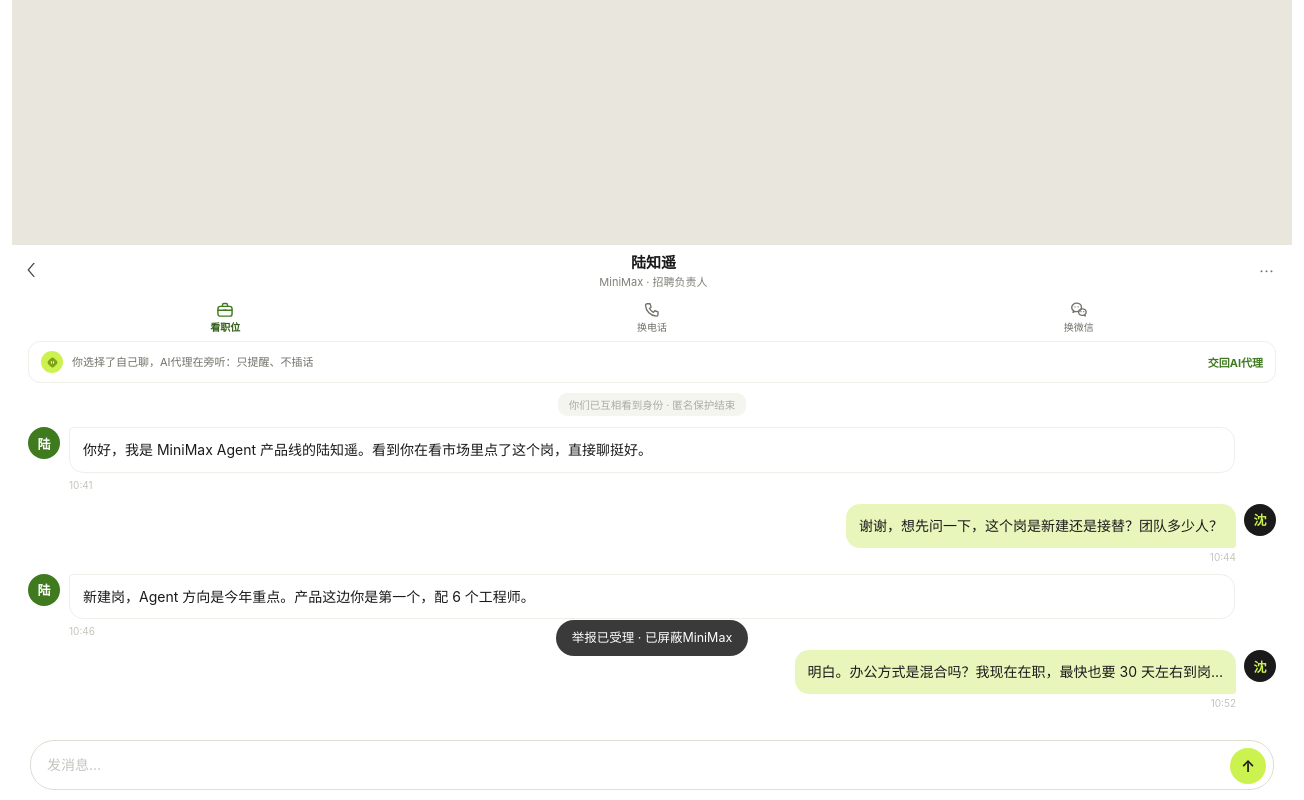
it: 直聊会话 · Mock 原型行为原样 › 原型消息流与本地发送行为保持
(page scrolled)
expect the text "陆知遥" is shown: met, box [631,253,676,272]
expect the text "你好，我是 MiniMax Agent 产品线的陆知遥。看到你在看市场里点了这个岗，直接聊挺好。" is shown: met, box [83,441,652,458]
Type "今天下午方便电话" into the text box at (634, 765), box [47,746,1220,784]
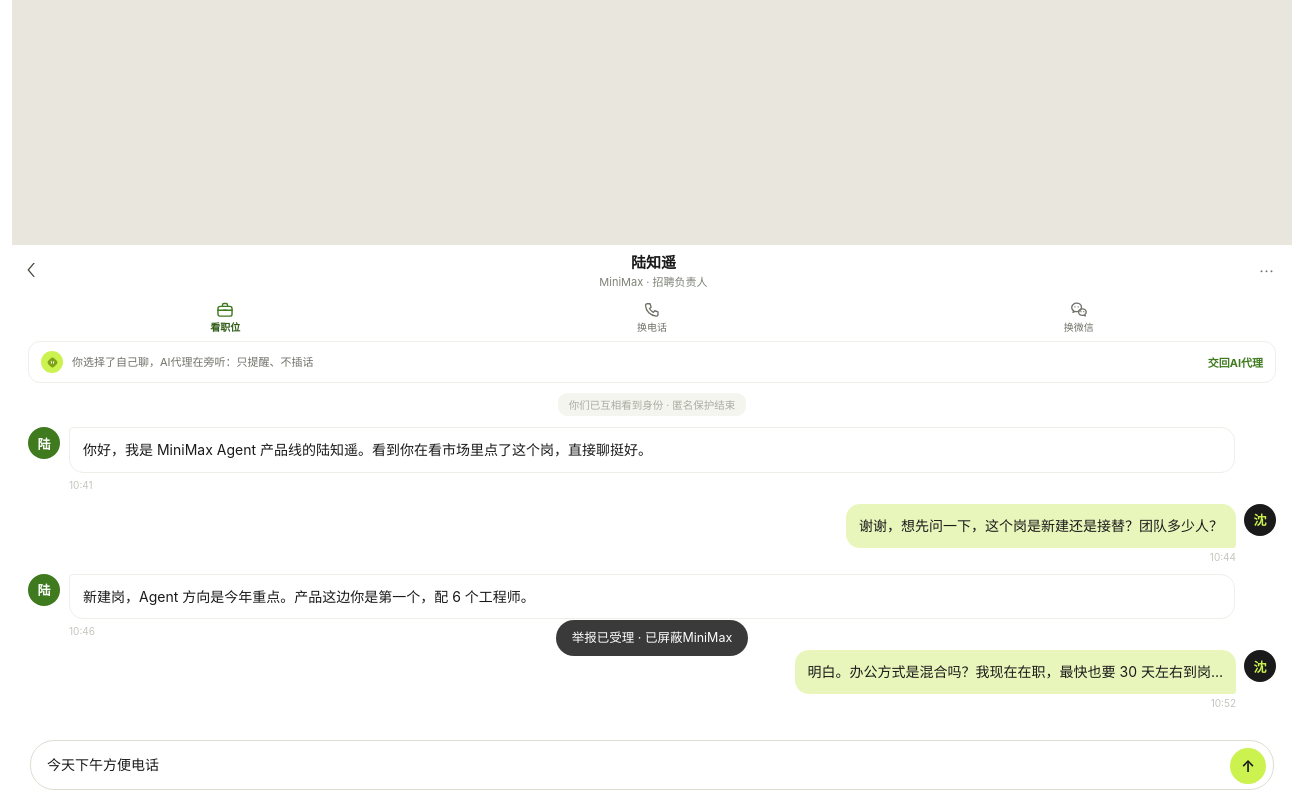
Click the button named "发送" at (1248, 766), box [1230,748,1266,784]
(page scrolled)
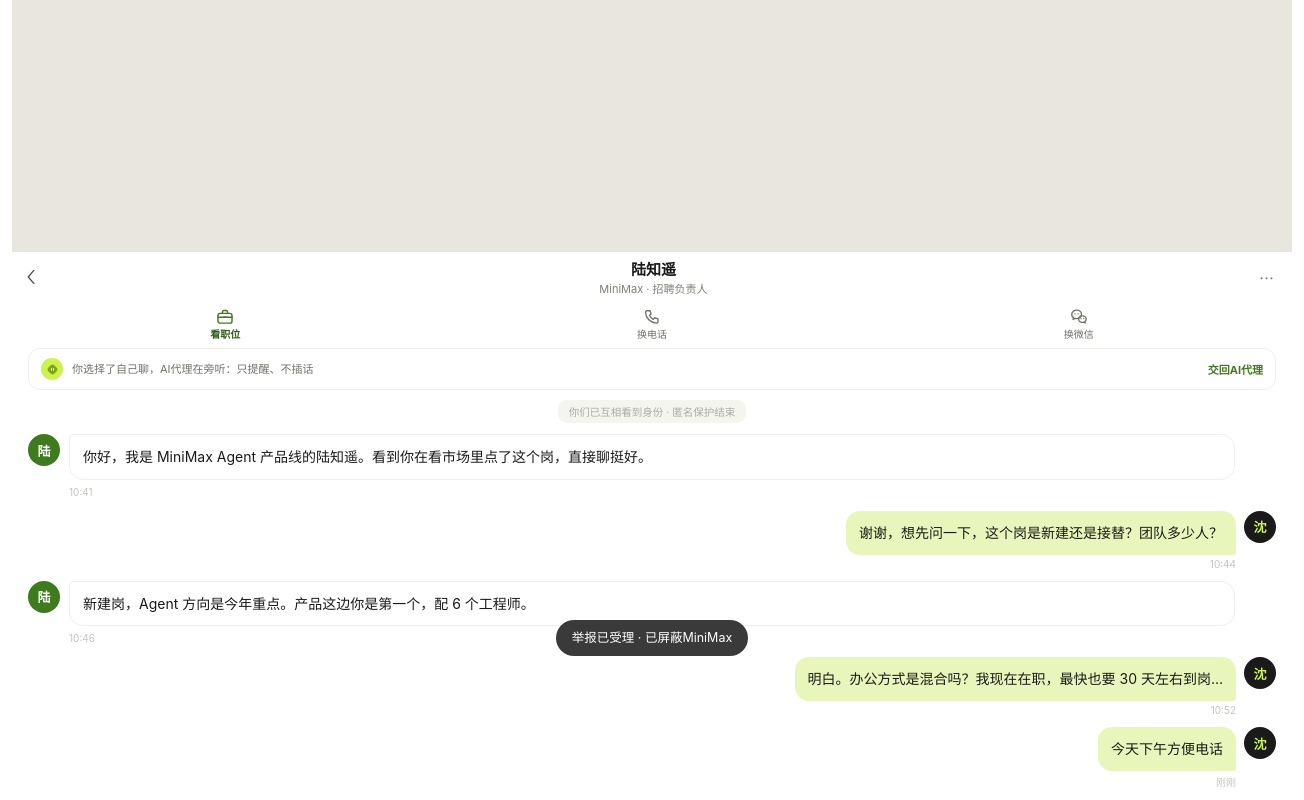
expect the text "今天下午方便电话" is shown: met, box [1111,737,1223,761]
